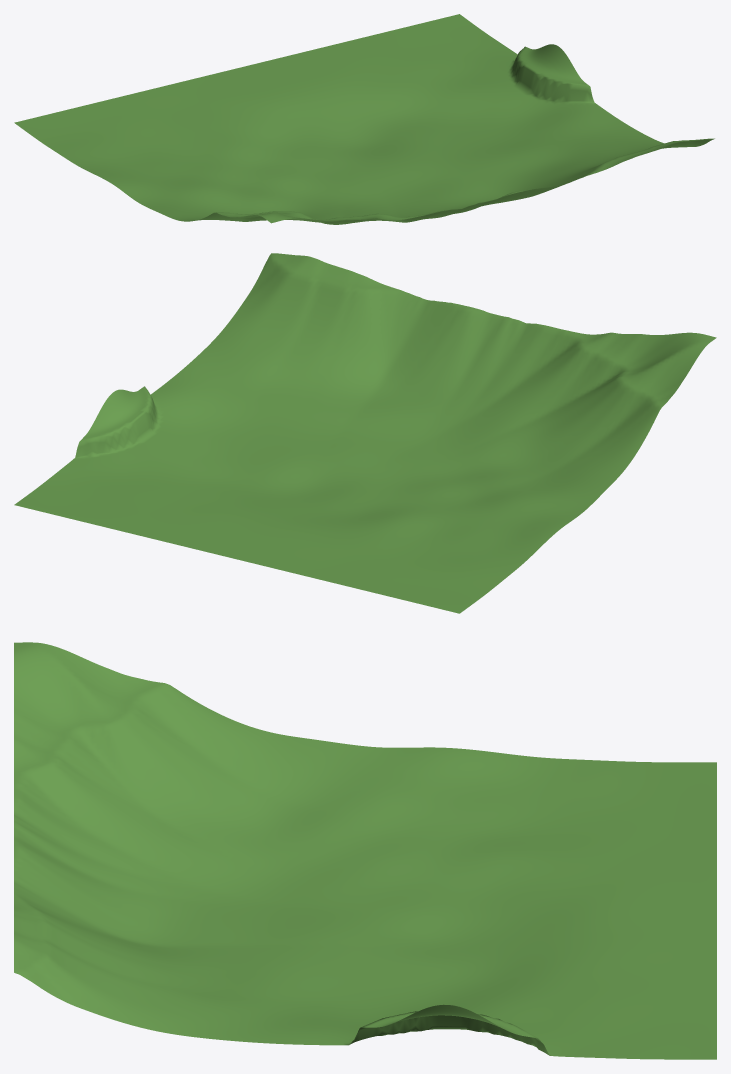
The model's file is SM_Terrain_04_00.fbx.
3 renders of one model, top to bottom at view 1: azimuth 30°, elevation 25°; view 2: azimuth 150°, elevation 25°; view 3: azimuth 270°, elevation 25°, orthographic. The views are drawn at different scales.
Parts seen in each view (by area): view 1: SM_Terrain_04_00; view 2: SM_Terrain_04_00; view 3: SM_Terrain_04_00.
Part boxes in pixels (x1=…): SM_Terrain_04_00: x1=14, y1=14, x2=714, y2=224; SM_Terrain_04_00: x1=14, y1=253, x2=716, y2=613; SM_Terrain_04_00: x1=14, y1=642, x2=716, y2=1059.
Size of the model in its own units: 384 by 79.56 by 384.
